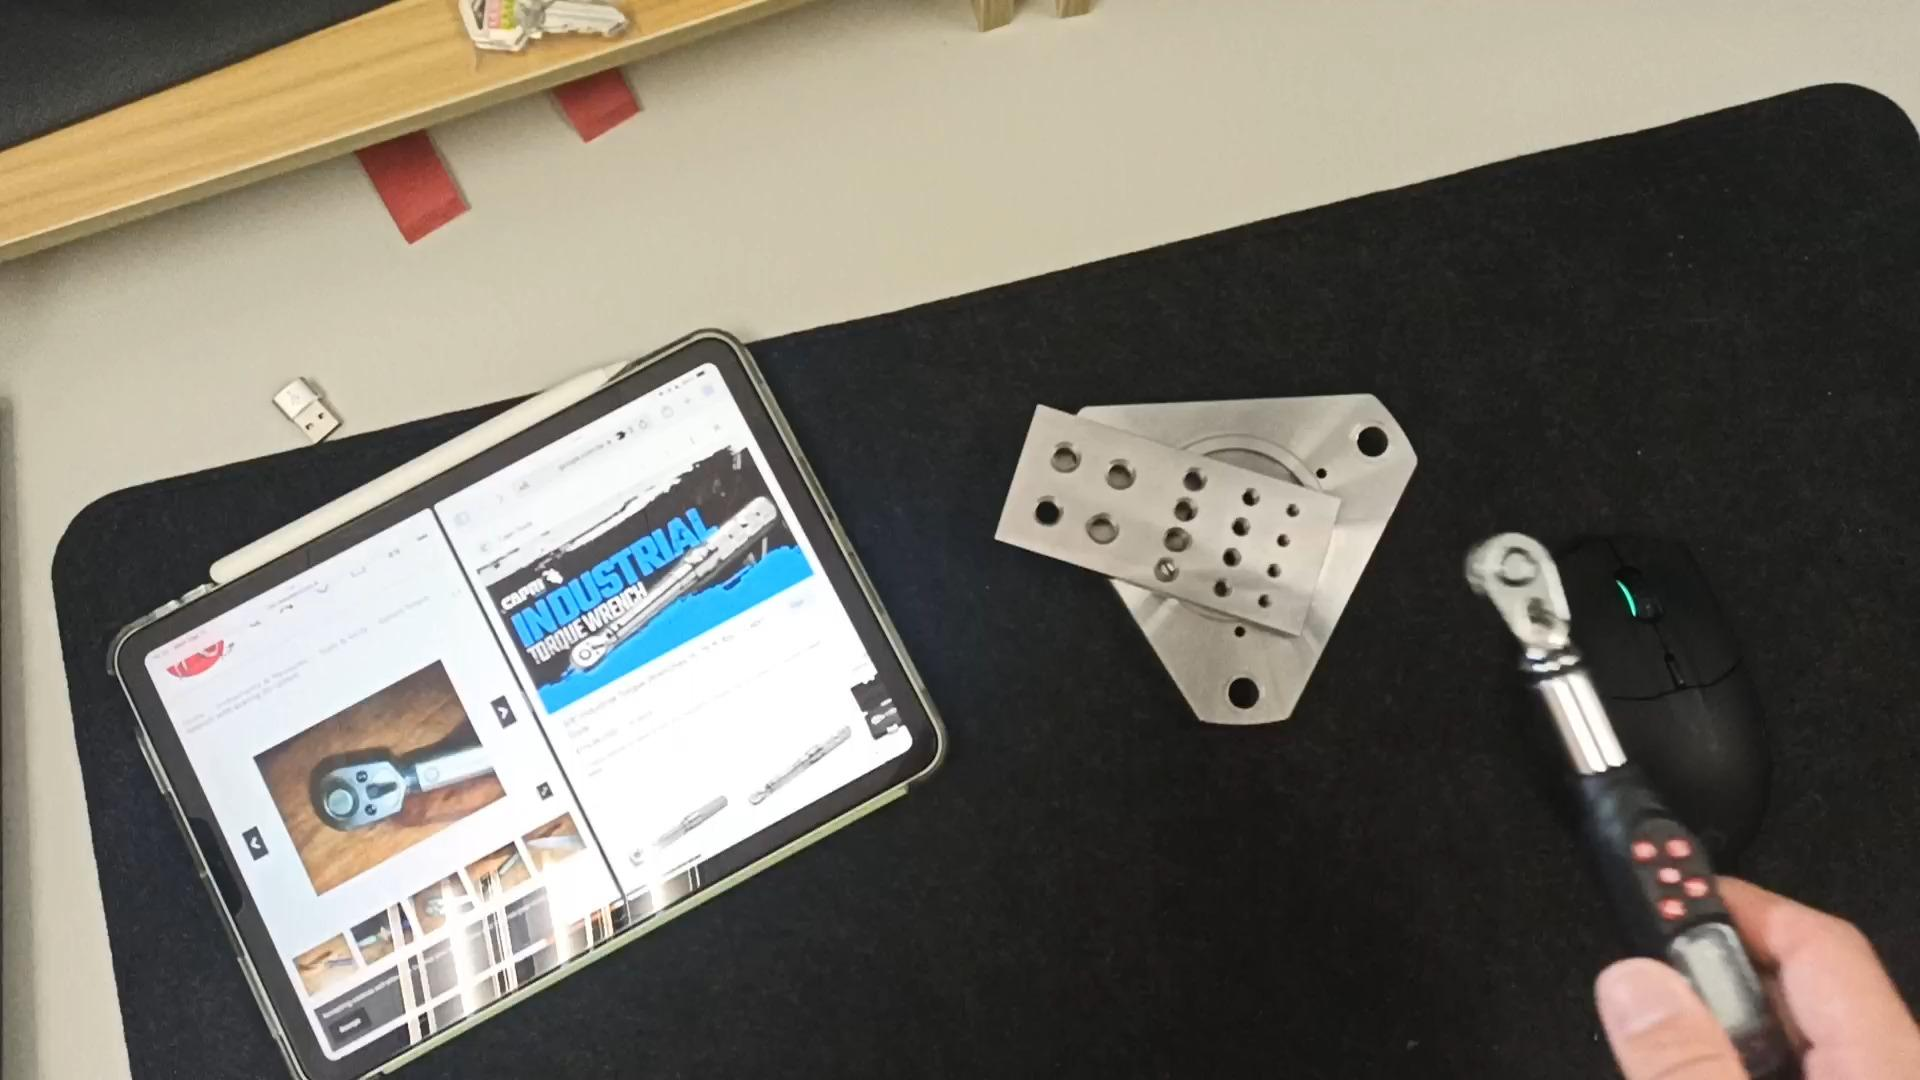Tool: (1469, 517, 1588, 666), (313, 767, 406, 827), (572, 635, 615, 671)
hole: (1204, 672, 1272, 717), (1338, 421, 1402, 463), (1092, 455, 1148, 491), (1035, 439, 1091, 475), (1017, 496, 1073, 531), (1076, 511, 1127, 545), (1149, 522, 1196, 549), (1179, 463, 1222, 490), (1142, 557, 1182, 583), (1171, 497, 1211, 522), (1224, 515, 1259, 536), (1216, 540, 1251, 561), (1203, 577, 1238, 598), (1232, 488, 1268, 508), (1245, 590, 1278, 610), (1255, 563, 1288, 582), (1273, 501, 1306, 519), (1264, 529, 1296, 547)
